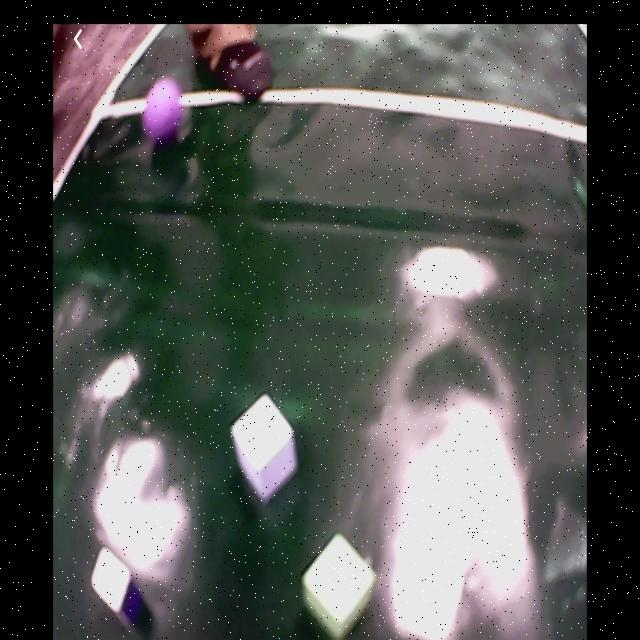ball: (145, 81, 184, 143)
